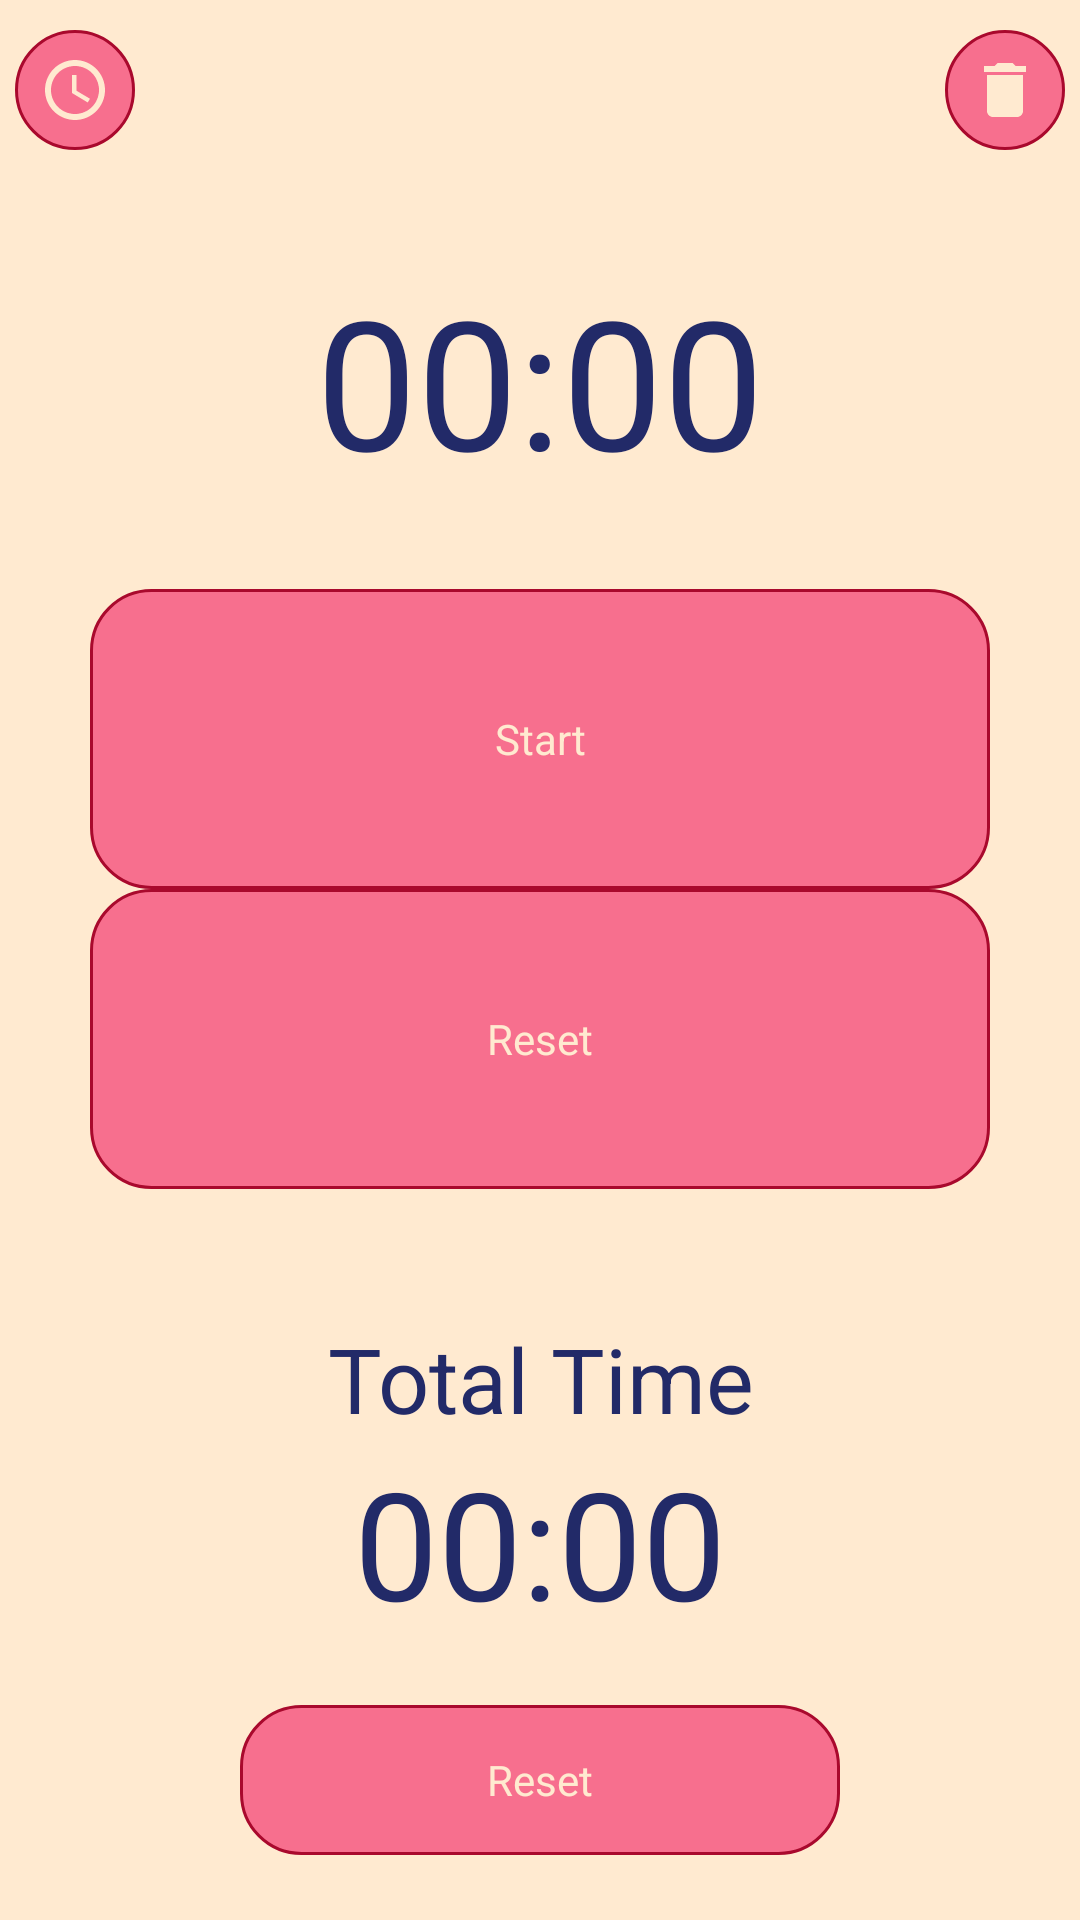

Named icons in this screenshot (1080 × 1920) and their bounding boxes, (x1, y1, x2, y2):
access time: (15, 30, 135, 150)
delete: (945, 30, 1065, 150)
